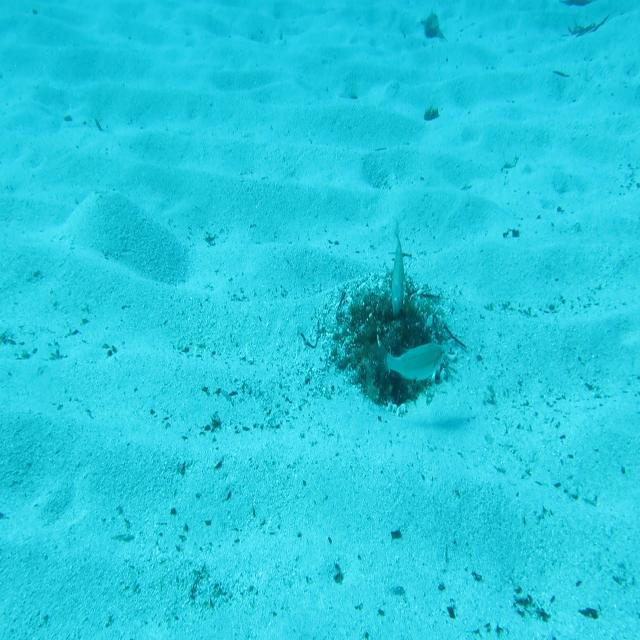NIP_CORE: (387, 218, 409, 320)
female: (374, 336, 449, 386)
nest: (334, 279, 466, 410)
